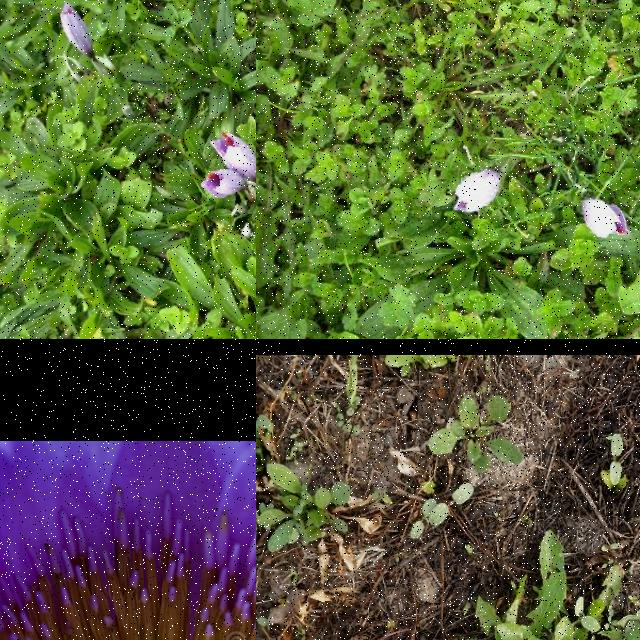flower: (454, 170, 502, 213), (211, 134, 256, 176), (584, 199, 630, 239), (61, 3, 94, 57), (200, 170, 243, 198)
